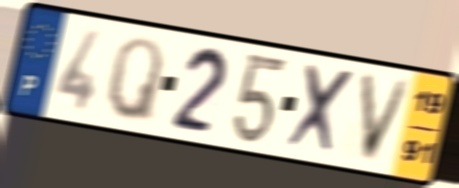2: (164, 42, 234, 140)
4: (52, 26, 103, 115)
5: (230, 49, 290, 146)
Q: (103, 34, 167, 128)
V: (357, 68, 415, 167)
X: (283, 60, 360, 160)
